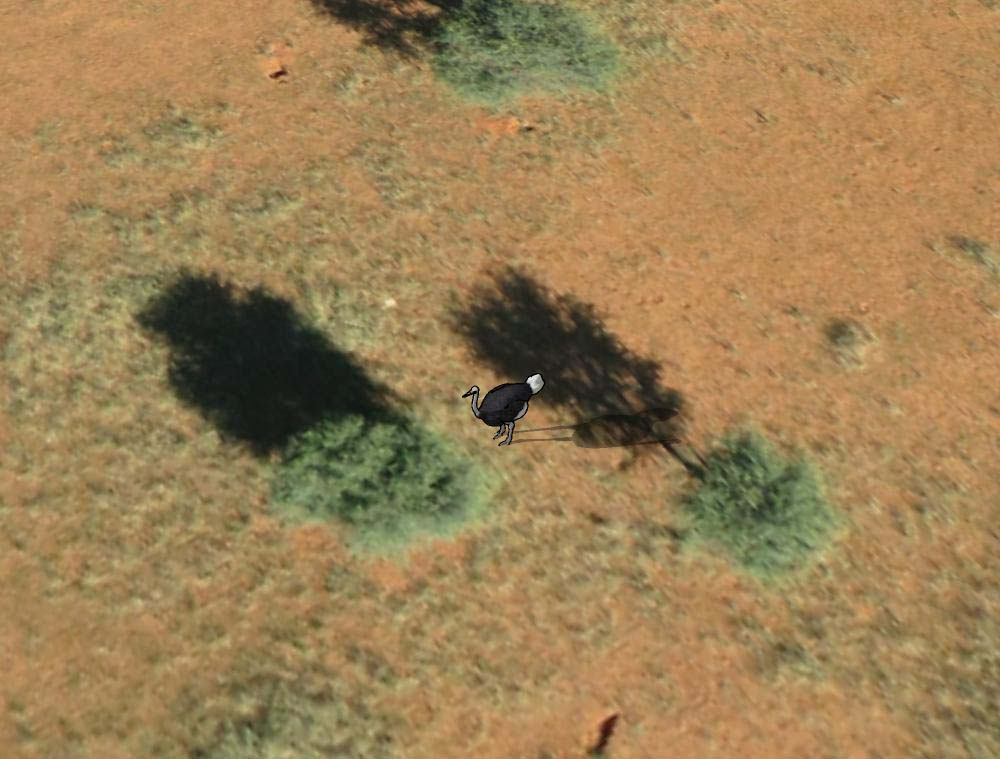ostrich: (460, 372, 547, 450)
